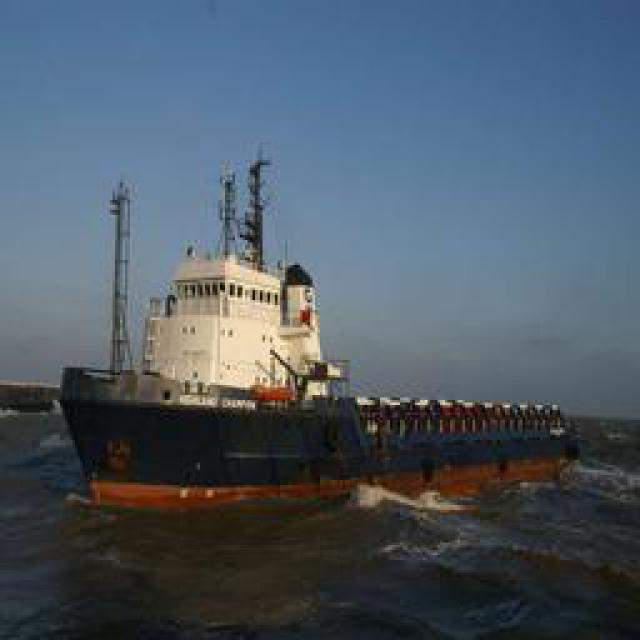Ship: (56, 131, 599, 502)
